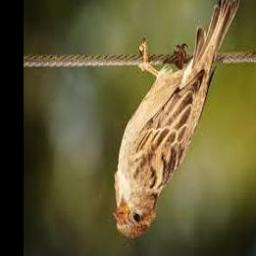Sparrow: (114, 0, 240, 239)
